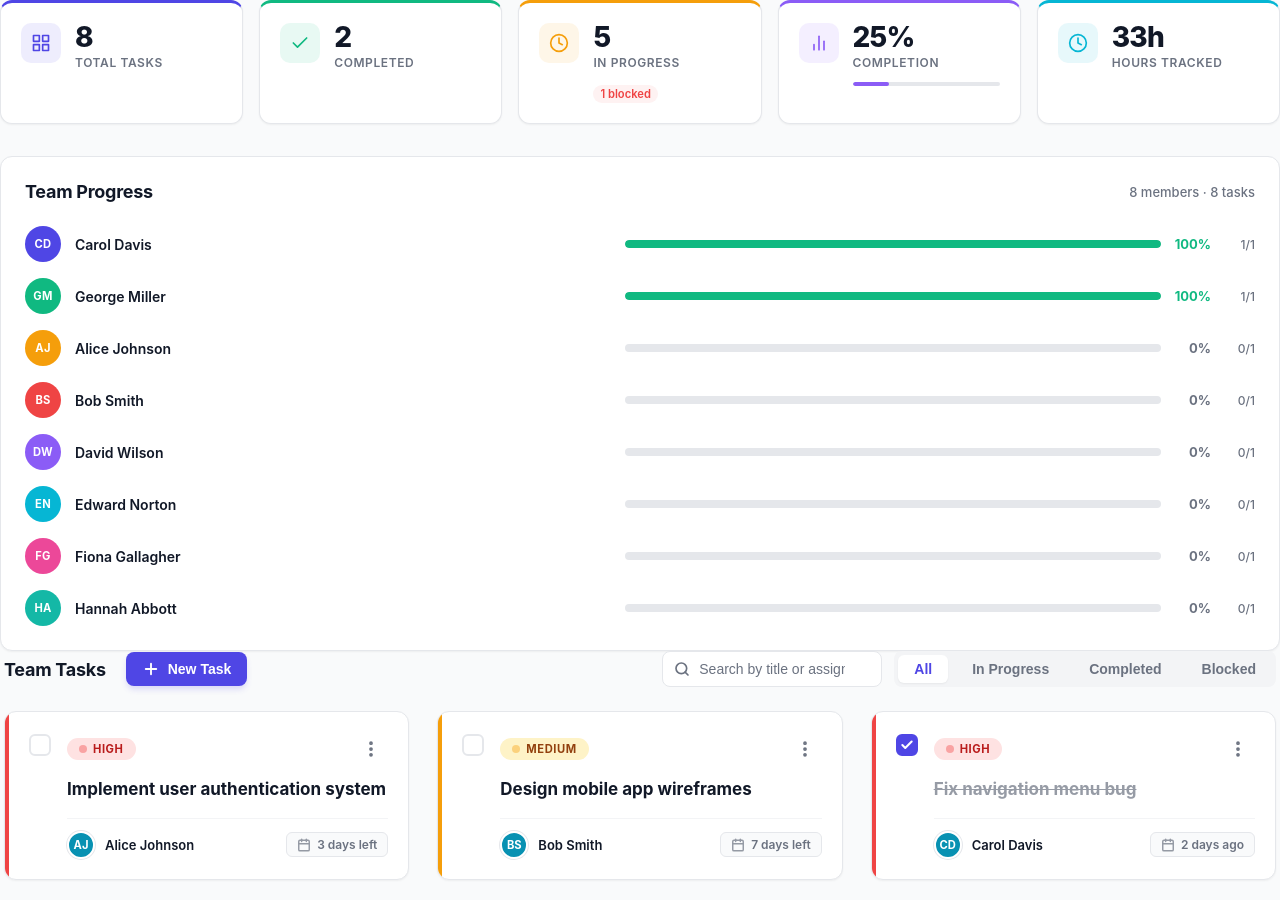
Scenario: TeamProgressChart – integration with TaskListView › chart updates when a task is unchecked
Expected: the list item with aria-label "carol davis: 1 of 1 tasks completed (100%)" is shown, [25,226,1255,262]
Click the button named "mark \"fix navigation menu bug\" as incomplete": (907, 745) [896,734,918,756]
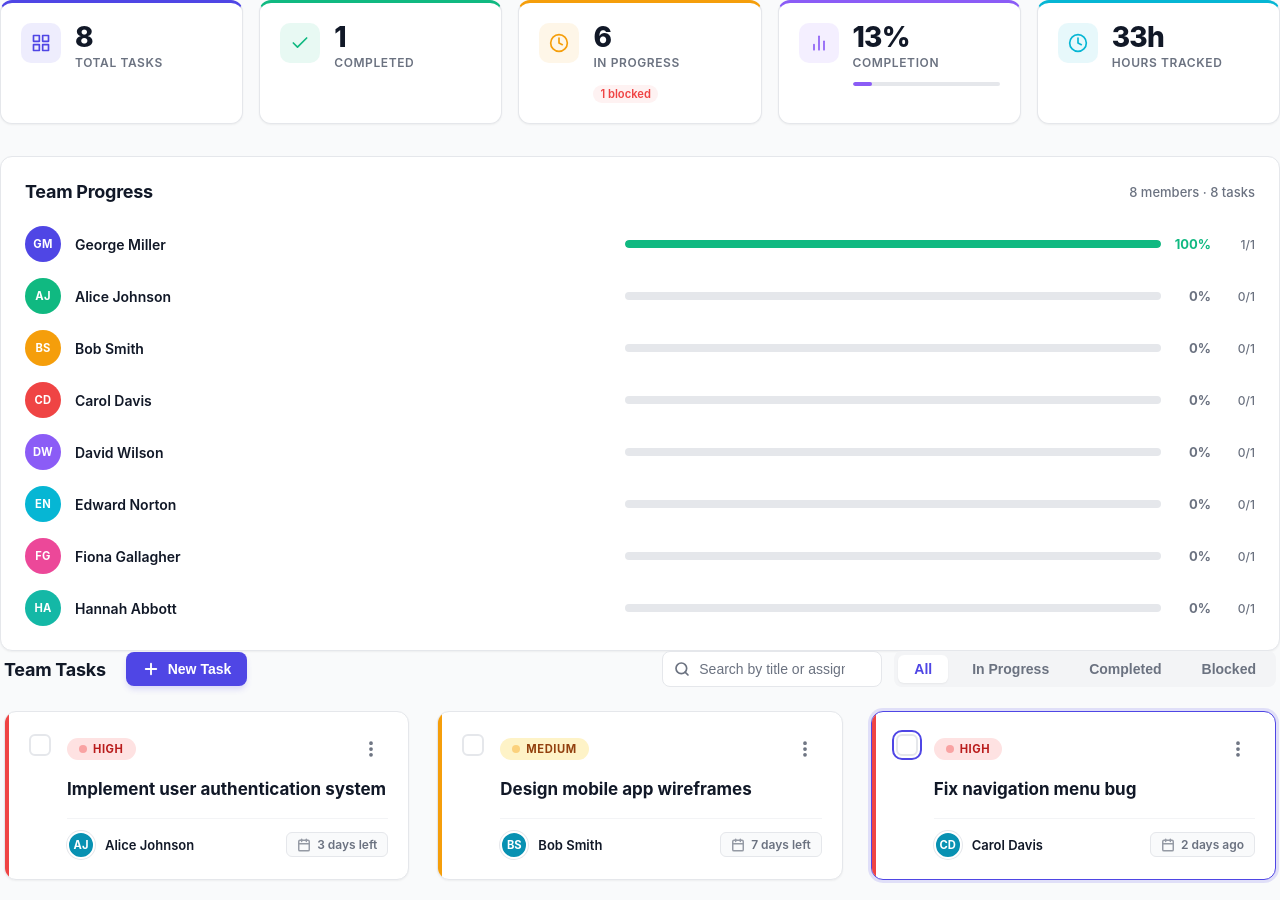
Now the list item with aria-label "carol davis: 0 of 1 tasks completed (0%)" is shown, box [25,382,1255,418]
